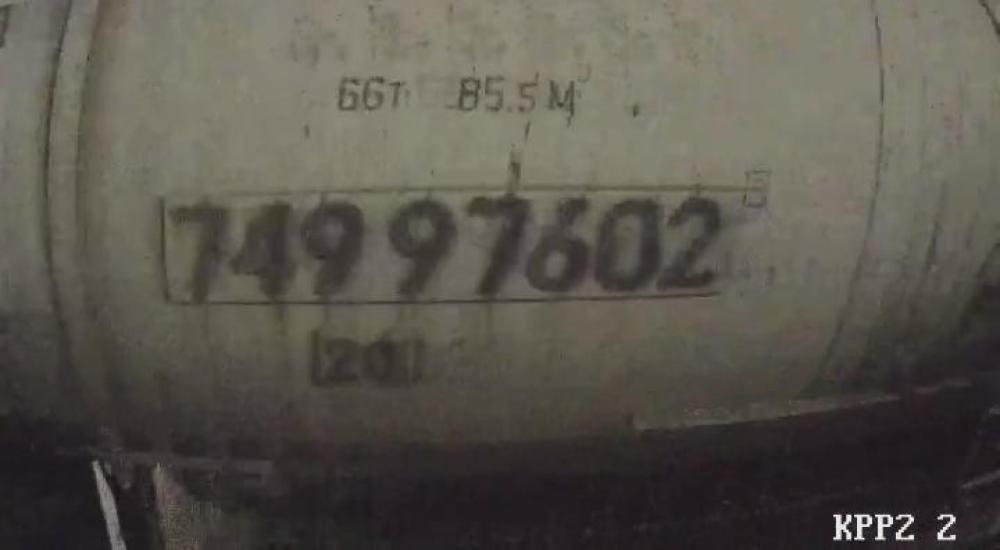Wagon-number: (162, 196, 729, 296)
